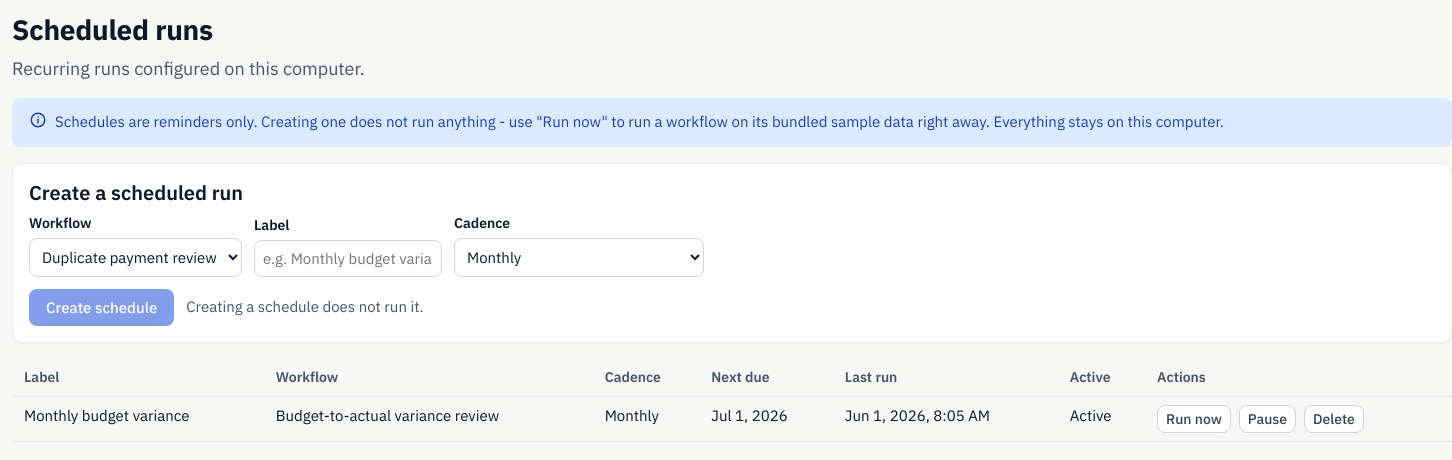
Test case: SchedulesPage activate/pause + delete (GW-33) › shows the backend detail inline when delete fails
Click the button "Delete" at (1334, 418), box left=1304, top=404, right=1364, bottom=432
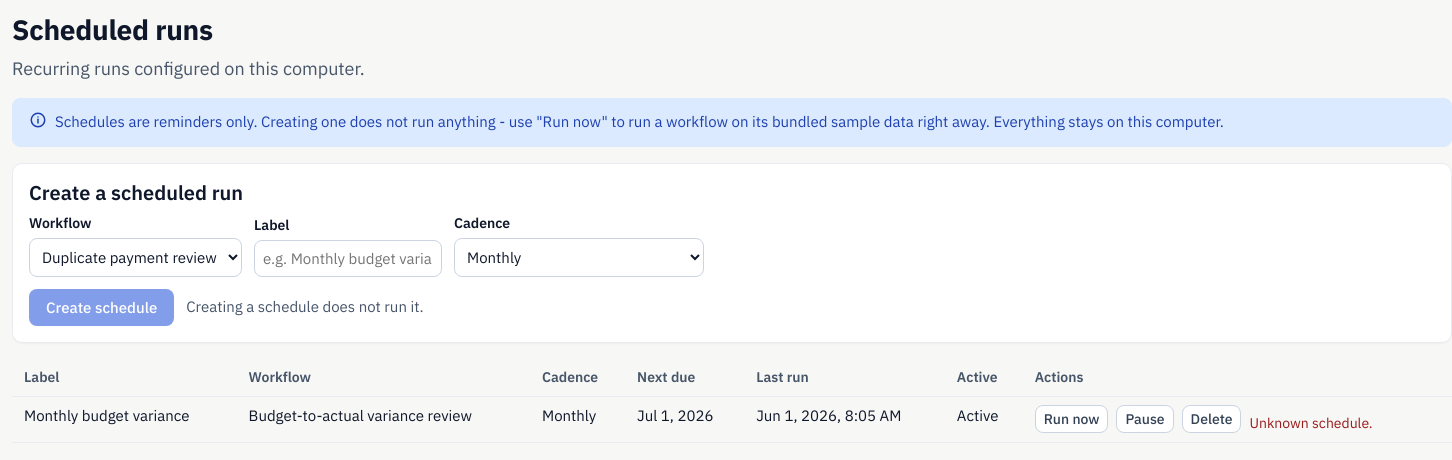
Expected: the text "Unknown schedule." is shown, left=1250, top=412, right=1373, bottom=434
